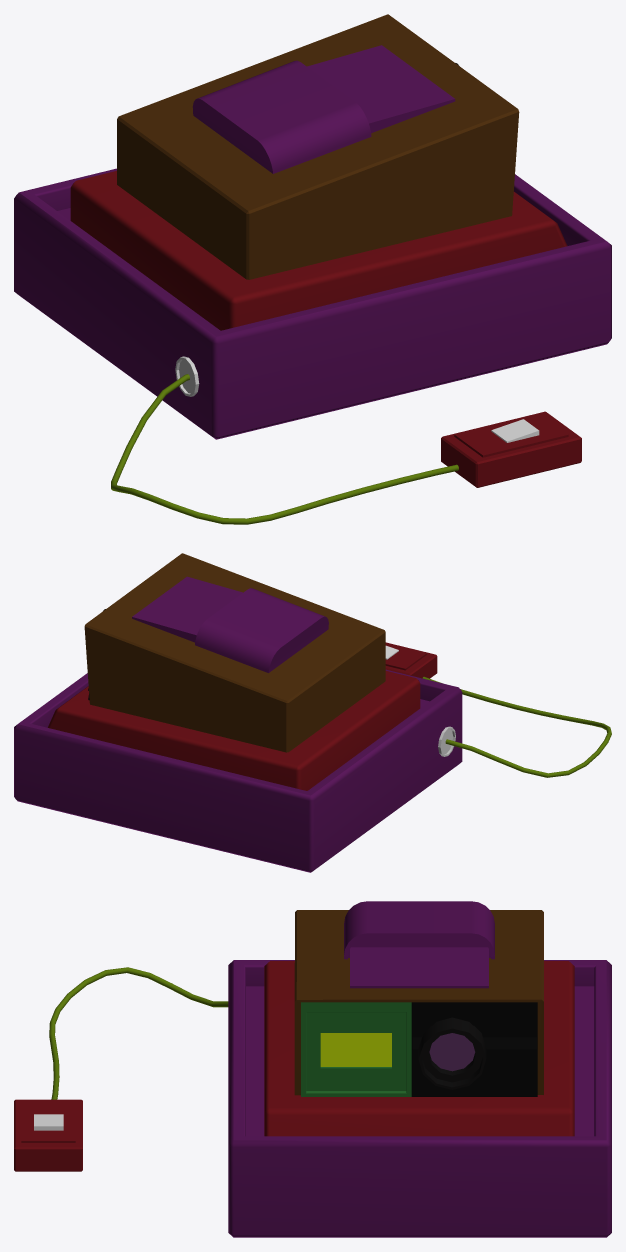
The model's file is SM_Projector.fbx.
The picture shows the model from 3 angles, top to bottom: view 1: azimuth 30°, elevation 25°; view 2: azimuth 150°, elevation 25°; view 3: azimuth 270°, elevation 25°; orthographic projection. The views are drawn at different scales.
Visible parts, largest first — view 1: polySurface24, pCube15; view 2: polySurface24; view 3: polySurface24, pCube15.
Part boxes in pixels (left/top/right/bottom): polySurface24: left=14, top=14, right=611, bottom=524; pCube15: left=491, top=419, right=539, bottom=442; polySurface24: left=14, top=553, right=611, bottom=872; polySurface24: left=14, top=901, right=611, bottom=1237; pCube15: left=34, top=1114, right=63, bottom=1130.
Size of the model in its own units: 62.77 by 26.05 by 63.76.
